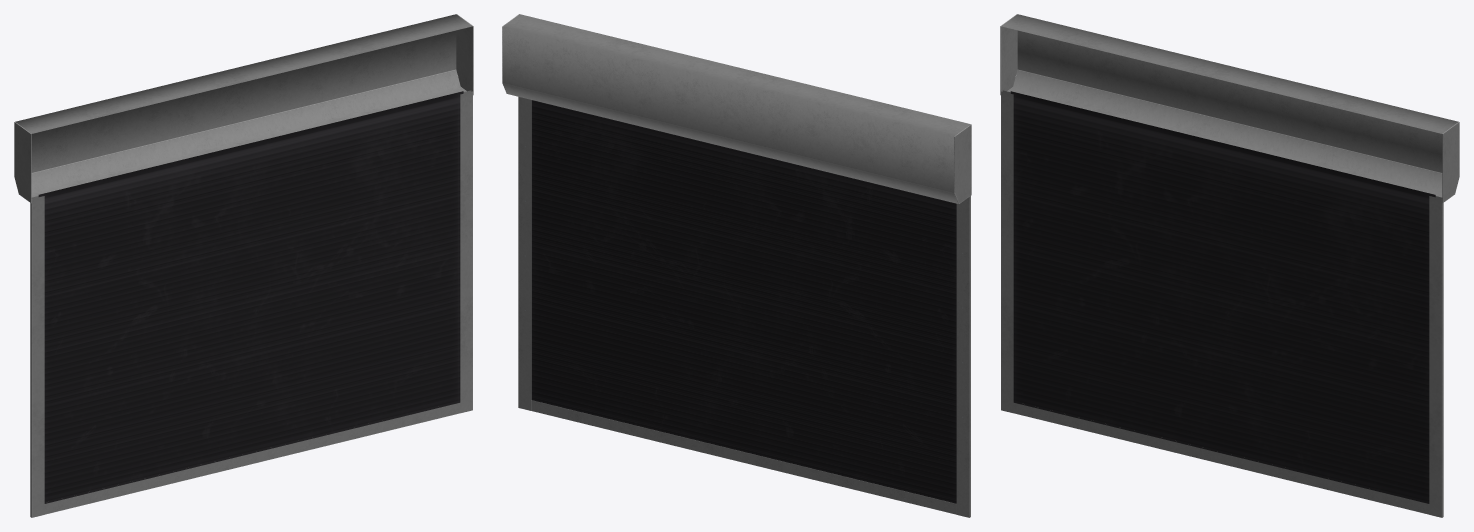
The model's file is door.glb.
The picture shows the model from 3 angles, left to right: view 1: azimuth 30°, elevation 25°; view 2: azimuth 150°, elevation 25°; view 3: azimuth 330°, elevation 25°; orthographic projection. The views are drawn at different scales.
Parts seen in each view (by area): view 1: gates.lp, main.body..lp, side.body..lp.001, bot.body..lp, side.body..lp, sidearmor.lp.001, sidearmor.lp; view 2: gates.lp, main.body..lp, bot.body..lp, side.body..lp.001, side.body..lp, sidearmor.lp.001; view 3: gates.lp, main.body..lp, side.body..lp, bot.body..lp, side.body..lp.001, sidearmor.lp, sidearmor.lp.001.
Boxes of the visible parts, bbox=[...] form: gates.lp: bbox=[38, 91, 463, 503]; main.body..lp: bbox=[15, 14, 472, 197]; side.body..lp.001: bbox=[30, 196, 44, 517]; bot.body..lp: bbox=[44, 403, 460, 514]; side.body..lp: bbox=[460, 90, 472, 413]; sidearmor.lp.001: bbox=[14, 122, 31, 203]; sidearmor.lp: bbox=[456, 14, 473, 95]; gates.lp: bbox=[531, 100, 956, 503]; main.body..lp: bbox=[503, 14, 970, 203]; bot.body..lp: bbox=[531, 400, 956, 514]; side.body..lp.001: bbox=[956, 196, 970, 517]; side.body..lp: bbox=[518, 97, 531, 410]; sidearmor.lp.001: bbox=[954, 124, 971, 203]; gates.lp: bbox=[1010, 91, 1435, 503]; main.body..lp: bbox=[1001, 14, 1458, 197]; side.body..lp: bbox=[1429, 196, 1443, 517]; bot.body..lp: bbox=[1013, 403, 1429, 514]; side.body..lp.001: bbox=[1001, 90, 1013, 413]; sidearmor.lp: bbox=[1442, 122, 1459, 203]; sidearmor.lp.001: bbox=[1000, 14, 1017, 95].
Bounding box in the file's own units: 347 × 287 × 22.63.
2 materials, 2 textured.
